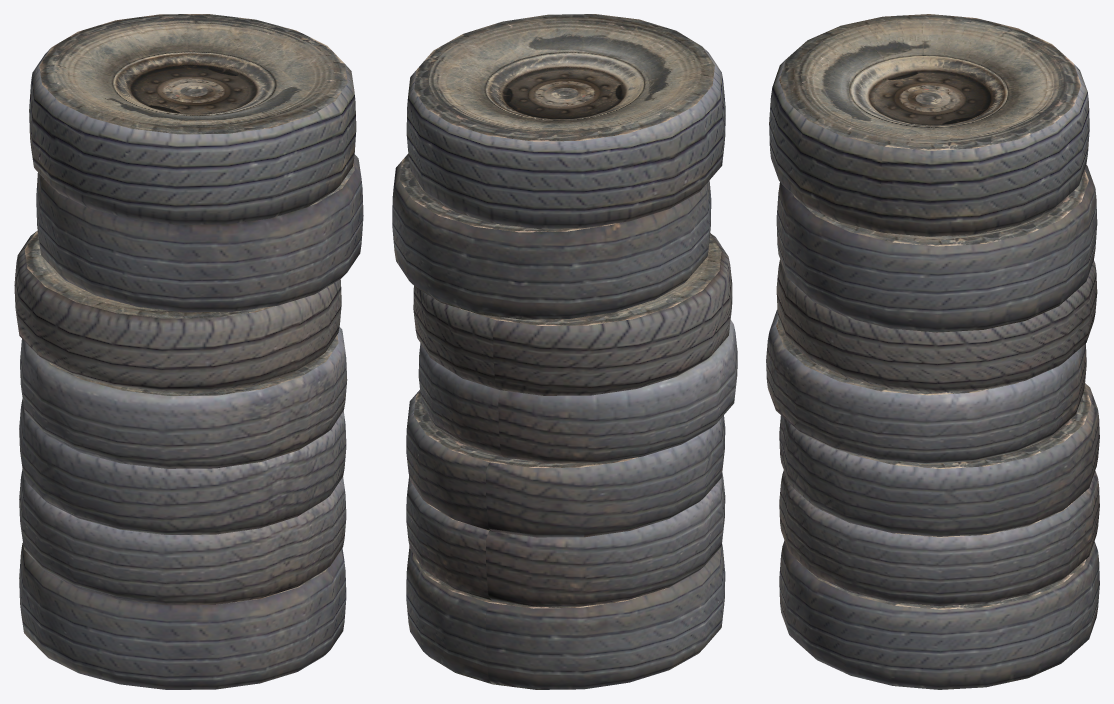
The model's file is tyre column.fbx.
3 renders of one model, left to right at view 1: azimuth 30°, elevation 25°; view 2: azimuth 150°, elevation 25°; view 3: azimuth 270°, elevation 25°, orthographic. The views are drawn at different scales.
Visible parts, largest first — view 1: U3DMesh; view 2: U3DMesh; view 3: U3DMesh.
Part boxes in pixels (bbox=[...]): U3DMesh: bbox=[14, 14, 363, 689]; U3DMesh: bbox=[392, 14, 737, 689]; U3DMesh: bbox=[766, 14, 1099, 689].
Bounding box in the file's own units: 39.92 × 70.95 × 38.63.
